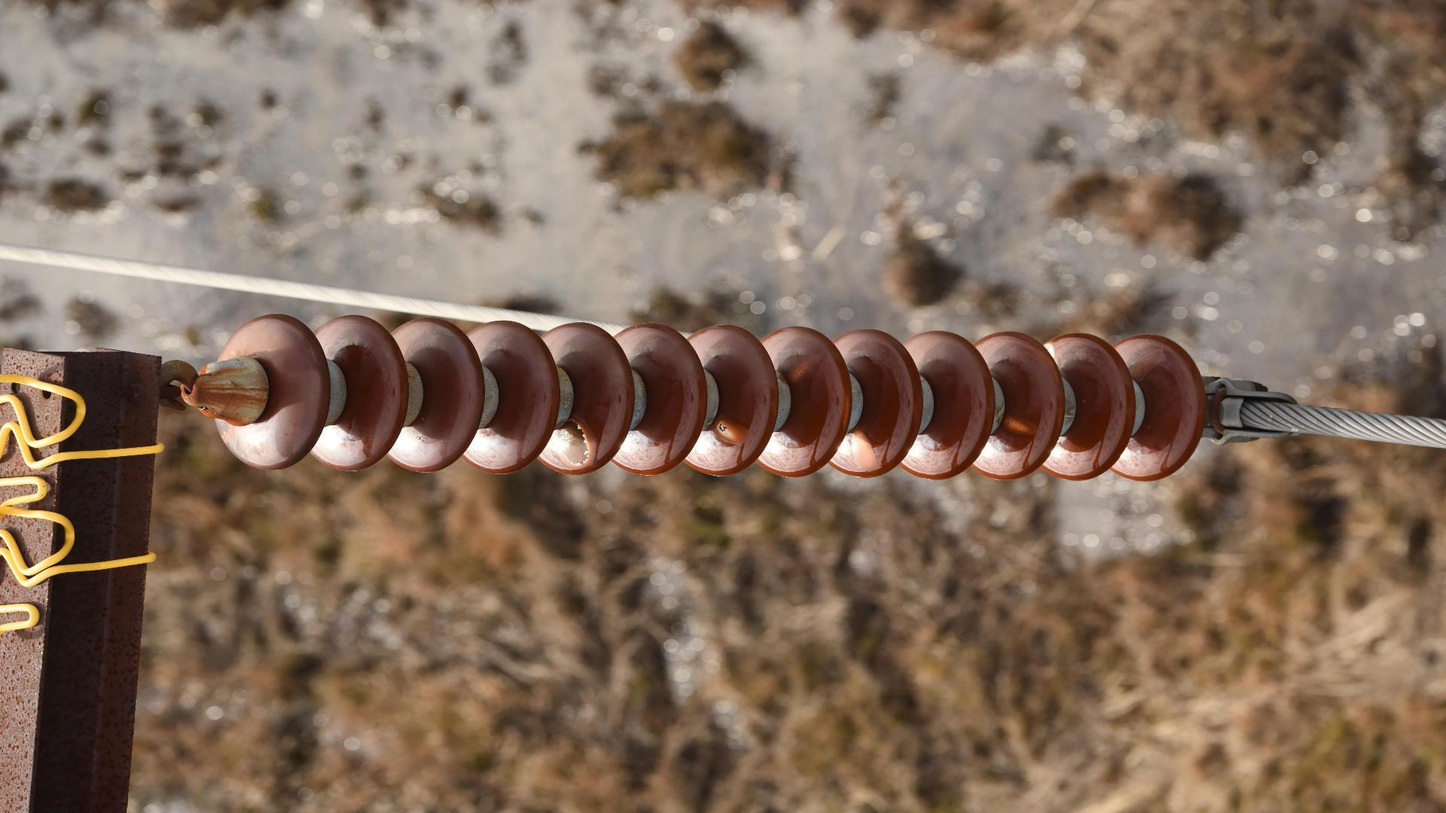insulator: (207, 310, 1208, 488)
insulator_flashover: (552, 416, 593, 467), (848, 428, 880, 475), (712, 419, 749, 446), (1002, 414, 1037, 437)
